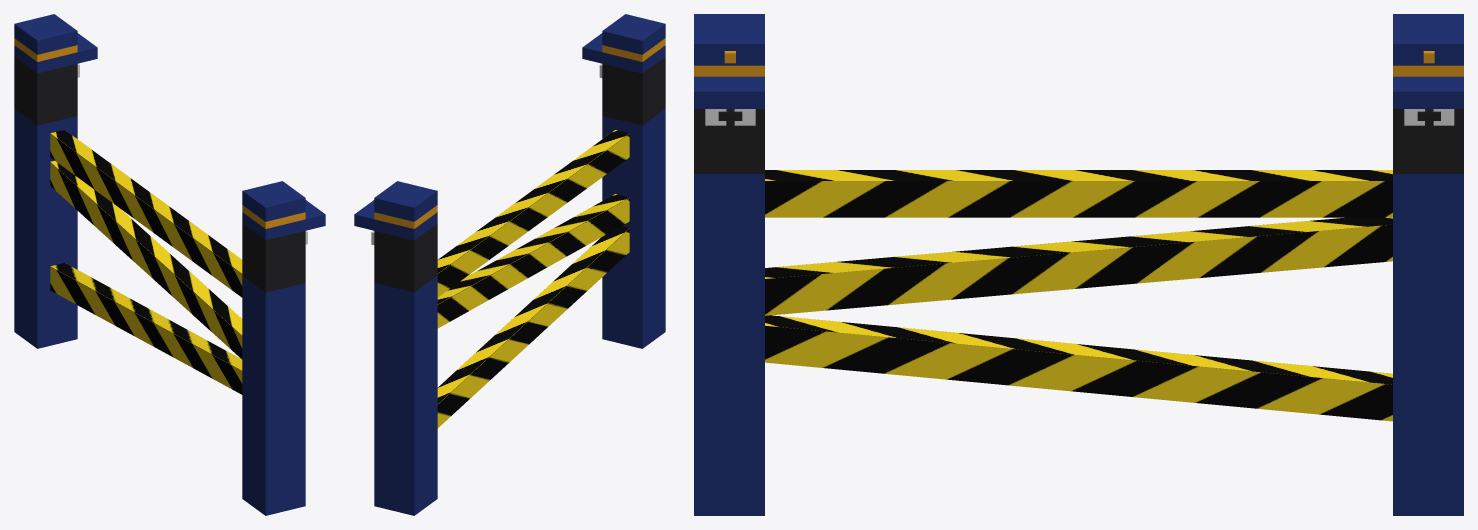
Rendered from OF[obsDis]_Valla.fbx.
3 views of the same model, side by side, from view 1: azimuth 30°, elevation 25°; view 2: azimuth 150°, elevation 25°; view 3: azimuth 270°, elevation 25° (orthographic). The views are drawn at different scales.
Parts seen in each view (by area): view 1: Cube.001; view 2: Cube.001; view 3: Cube.001.
Boxes of the visible parts, box(x1,y1,x2,y2) form: Cube.001: box(14, 14, 325, 515); Cube.001: box(354, 14, 665, 515); Cube.001: box(694, 14, 1463, 515).
Size of the model in its own units: 19.86 by 97.39 by 144.
5 materials, 1 textured.
